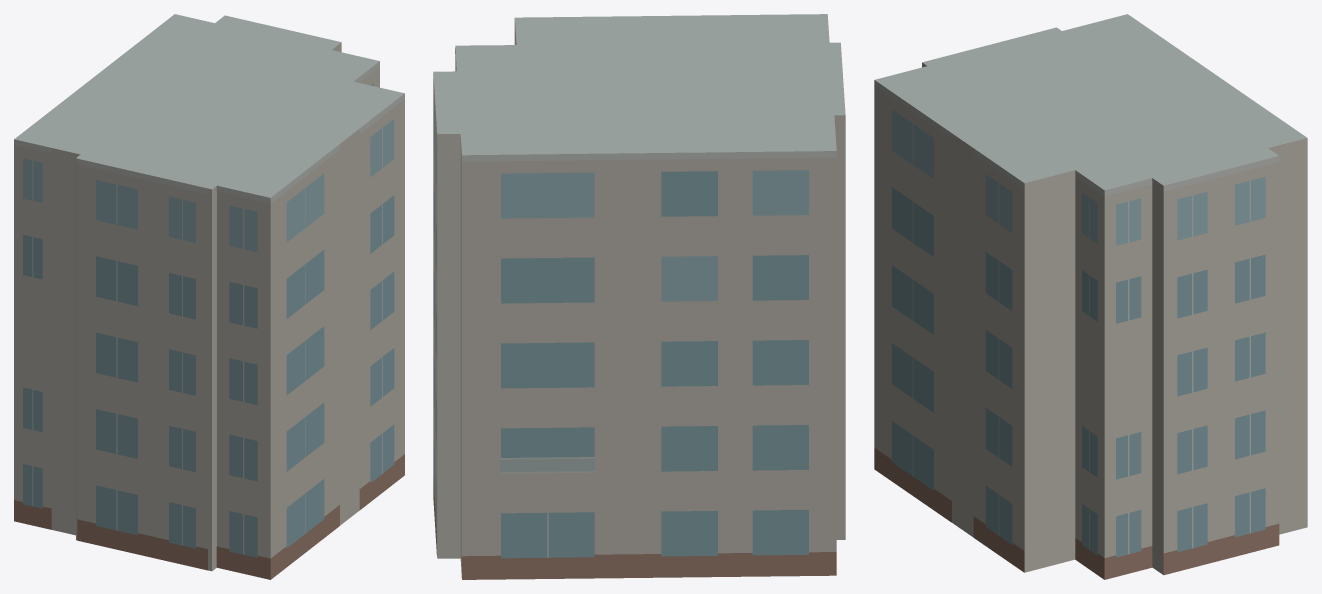
The model's file is survey-upis-32848224.glb.
3 renders of one model, left to right at view 1: azimuth 30°, elevation 25°; view 2: azimuth 150°, elevation 25°; view 3: azimuth 270°, elevation 25°, orthographic. The views are drawn at different scales.
Parts seen in each view (by area): view 1: survey-upis-32848224.tmp; view 2: survey-upis-32848224.tmp; view 3: survey-upis-32848224.tmp.
Boxes of the visible parts, x1,y1,x2,y2 form: survey-upis-32848224.tmp: [14, 14, 404, 579]; survey-upis-32848224.tmp: [433, 14, 845, 579]; survey-upis-32848224.tmp: [874, 14, 1307, 579].
Bounding box in the file's own units: 15.45 × 15.9 × 16.03.
